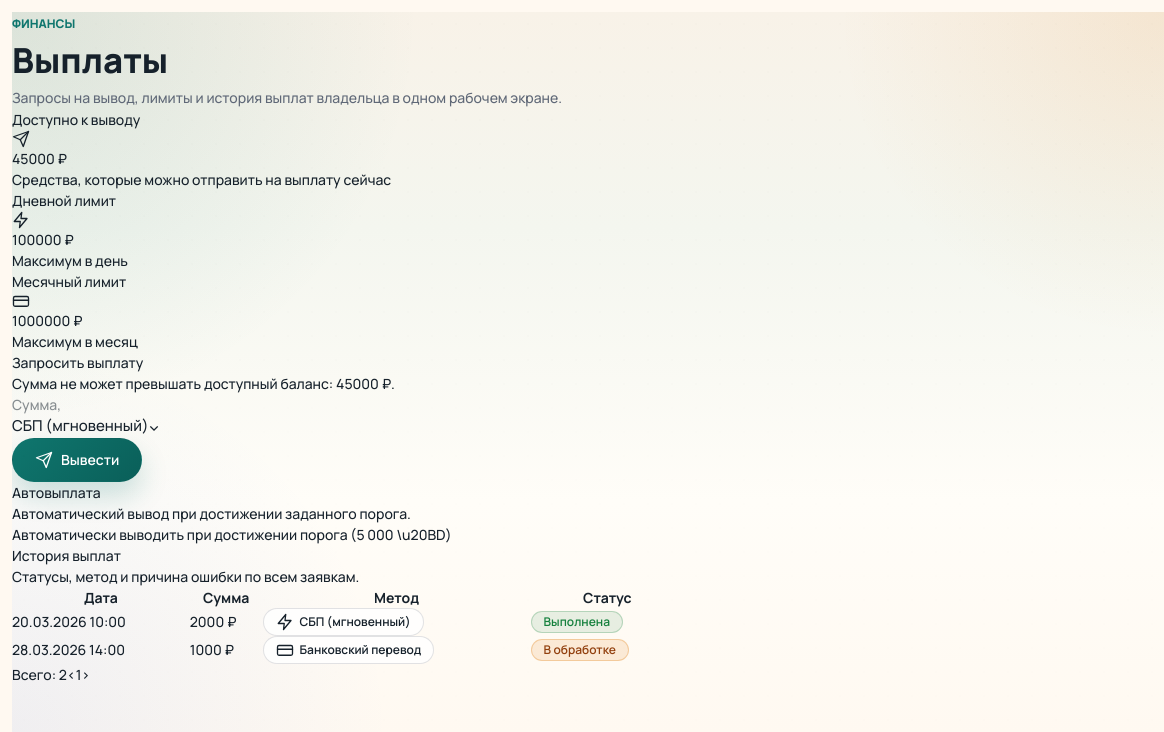
it: PayoutPage › validates payout form requires amount
Click the button "Вывести": (77, 460) [12, 438, 142, 482]
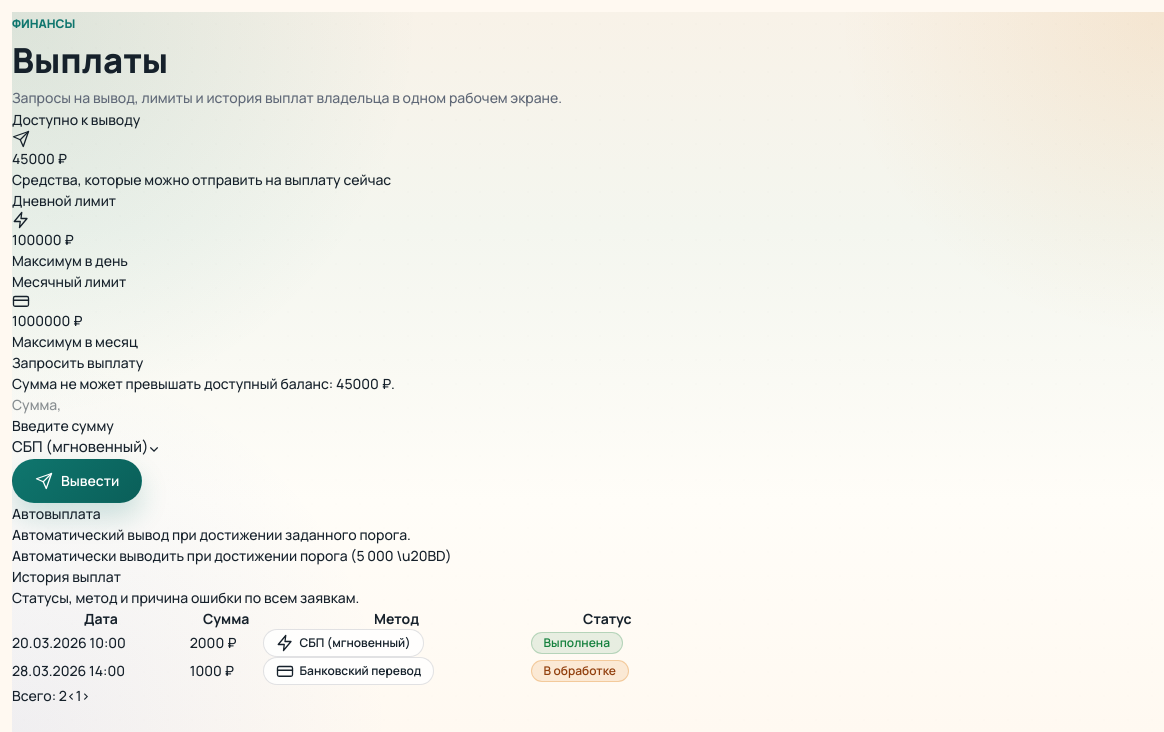
Result: the text "Введите сумму" is shown at [12, 416, 114, 435]
